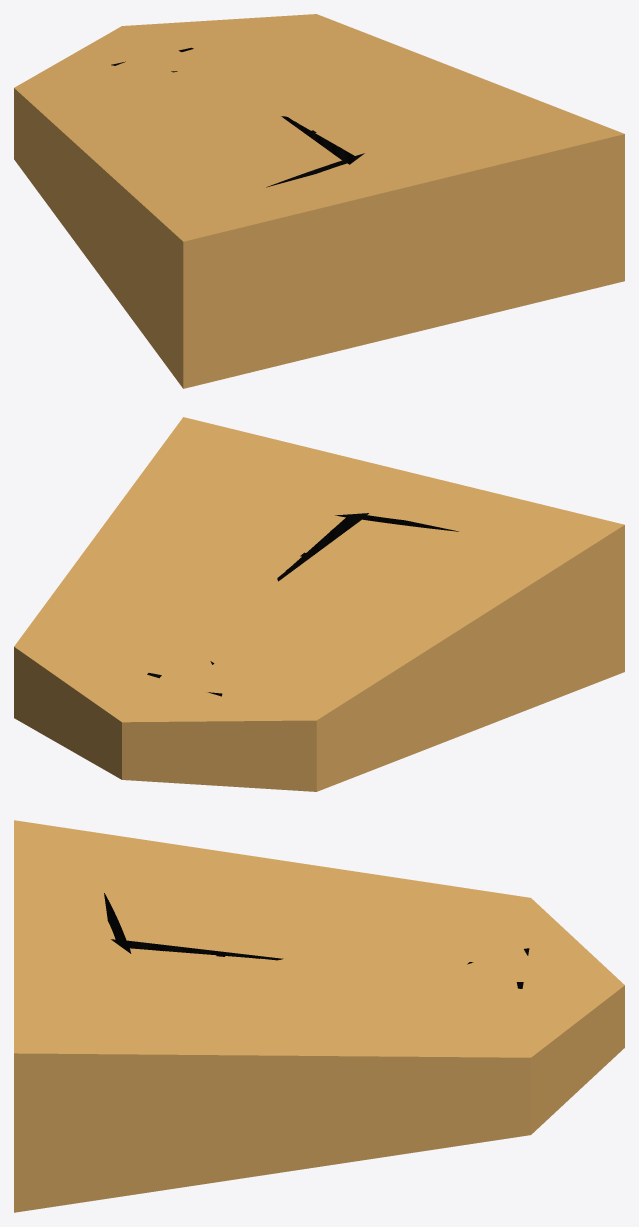
Rendered from Hisya.fbx.
The picture shows the model from 3 angles, top to bottom: view 1: azimuth 30°, elevation 25°; view 2: azimuth 150°, elevation 25°; view 3: azimuth 270°, elevation 25°; orthographic projection. The views are drawn at different scales.
Visible parts, largest first — view 1: hisya; view 2: hisya; view 3: hisya.
Boxes of the visible parts, bbox=[...] form: hisya: bbox=[14, 14, 624, 388]; hisya: bbox=[14, 417, 624, 791]; hisya: bbox=[14, 820, 624, 1212].
Size of the model in its own units: 0.702 by 0.2236 by 0.777.
